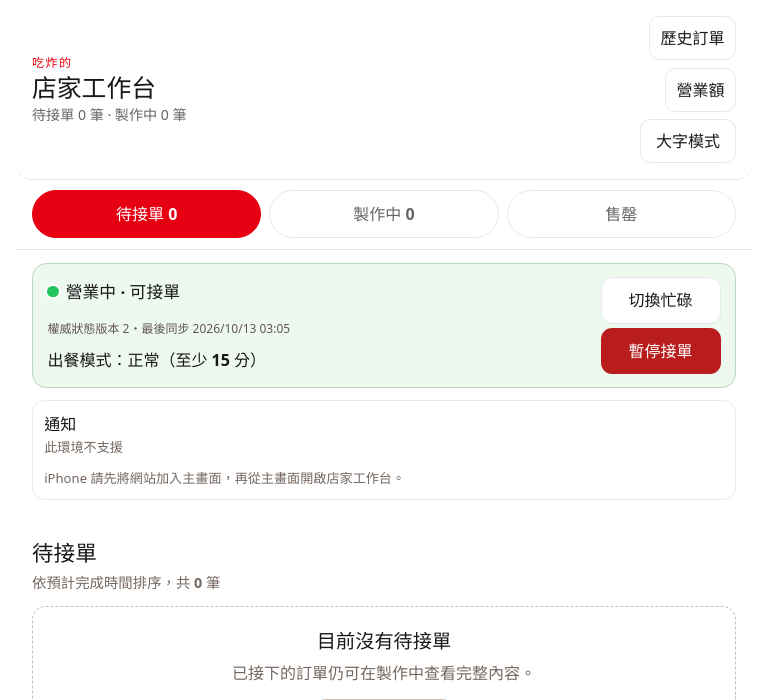
Merchant Store safety DOM › does not let an older in-flight poll overwrite a newer Store mutation
Expected: the element with test id "store-control" is shown, [32,263,736,388]
Step 1. Click the button "暫停接單" → {"x": 661, "y": 351}, box [601,328,721,374]
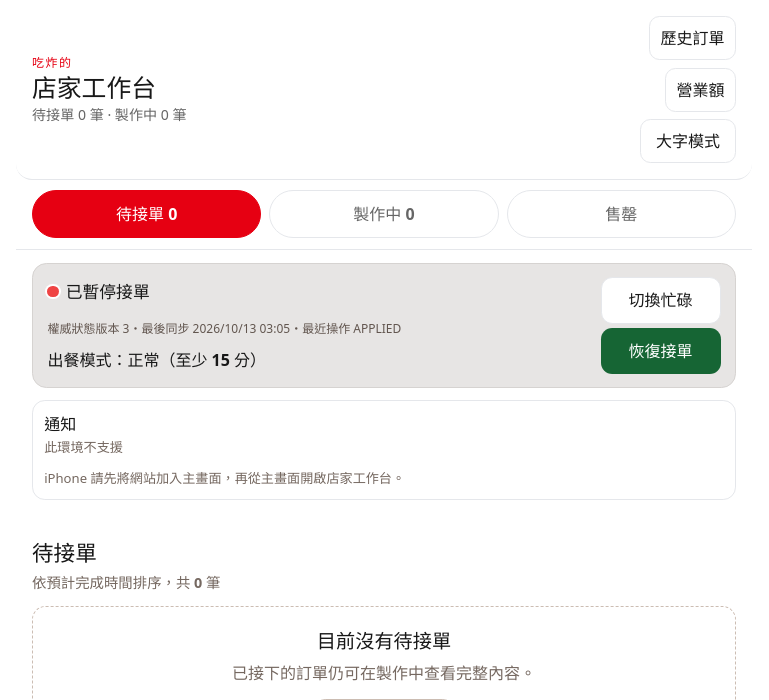
Expected: the text with class "store-sync-status" shows "3", [122,320,129,337]
Expected: the button with class "resume-store-button" is enabled, [601,328,721,374]
